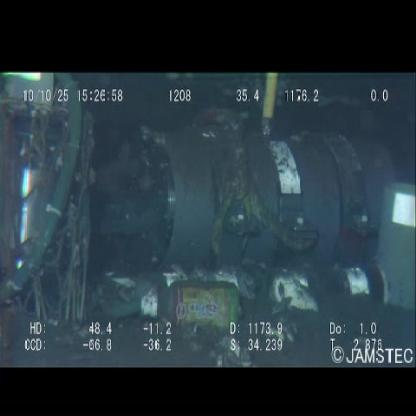Rov: (1, 76, 415, 319)
Rác: (138, 277, 241, 335)
